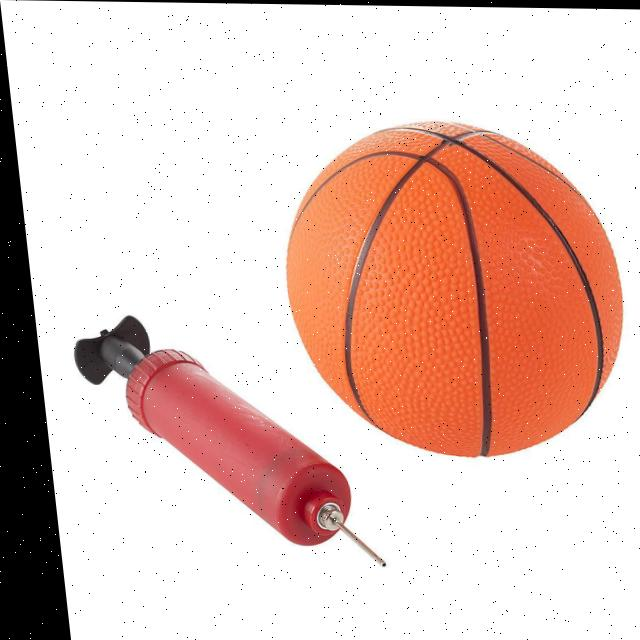basketball: (267, 118, 640, 460)
